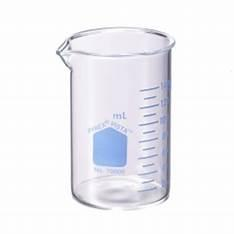Beaker: (57, 20, 176, 207)
